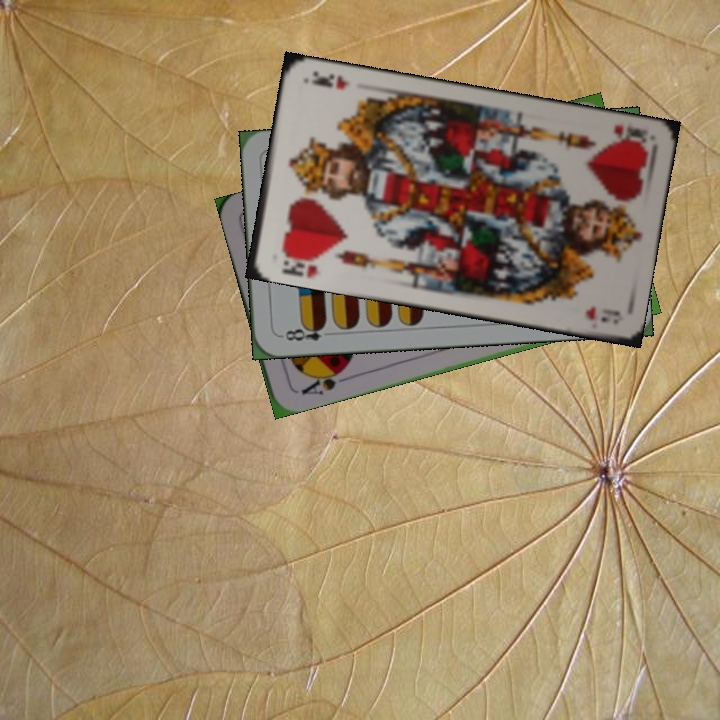E8: (277, 320, 336, 343)
HK: (277, 248, 321, 280), (609, 120, 650, 151)
SA: (297, 363, 351, 398)
